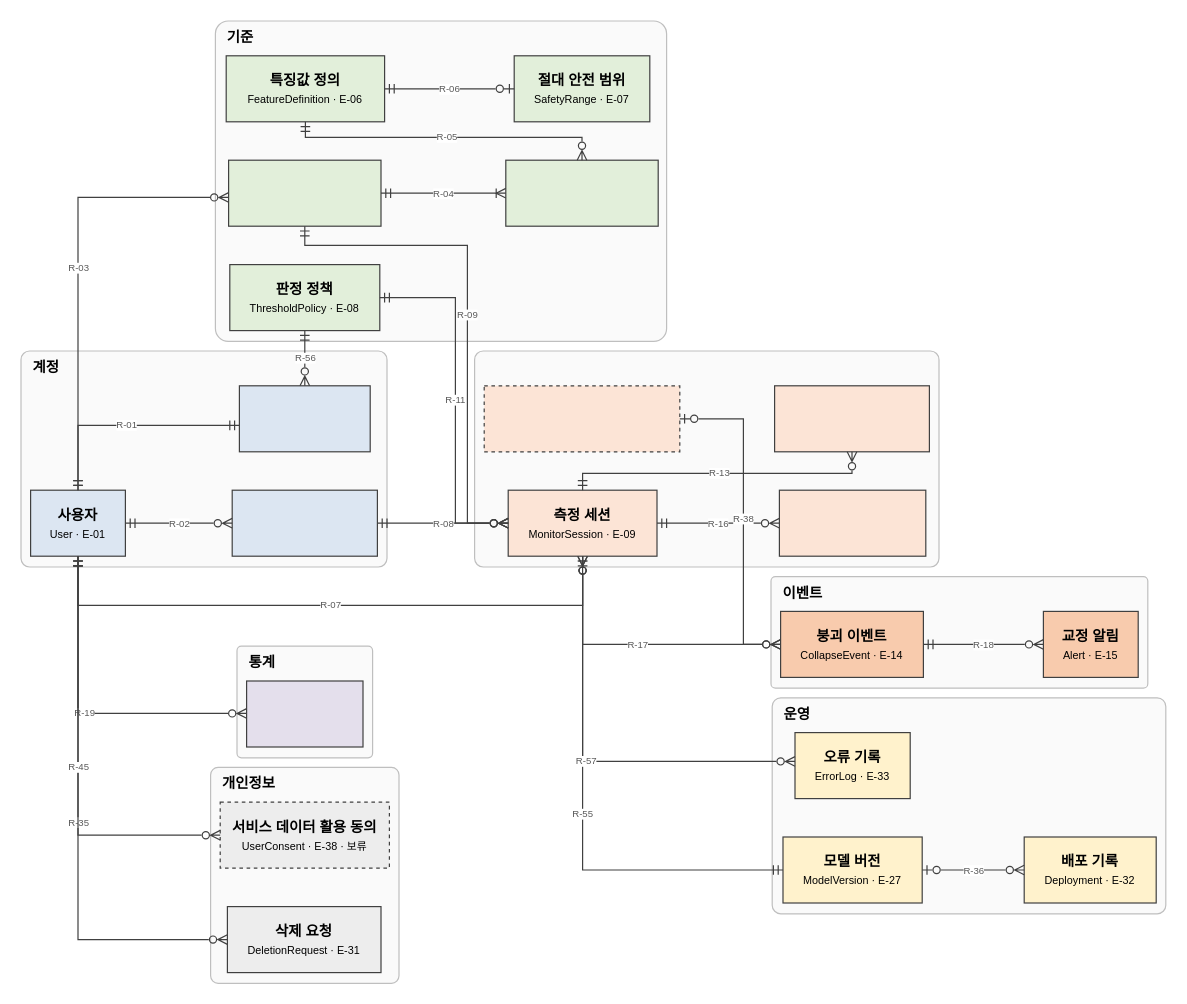
Some shapes in this 1187 by 1004 pixel diagram are drawn without their labels. The shapes that lost their labels are listed below. From the top down, each one's box as (x1, y1, x2, y2) in pixels, then its label:
(227, 159, 381, 226): 기준 자세 BaselinePosture · E-04
(505, 159, 658, 226): 기준 자세 특징값 BaselineFeature · E-05
(238, 385, 370, 452): 사용자 설정 UserSetting · E-02
(483, 385, 680, 452): 붕괴 유형 코드 CollapseTypeCode · E-34 · 보류
(773, 385, 929, 452): 세션 제외 구간 ExcludedInterval · E-10
(473, 350, 939, 567): 세션
(231, 489, 377, 556): 측정 장치 CaptureDevice · E-03
(778, 489, 926, 556): 특징값 적재 기록 FeatureArchive · E-13
(245, 680, 363, 747): 일별 통계 DailyStat · E-16
